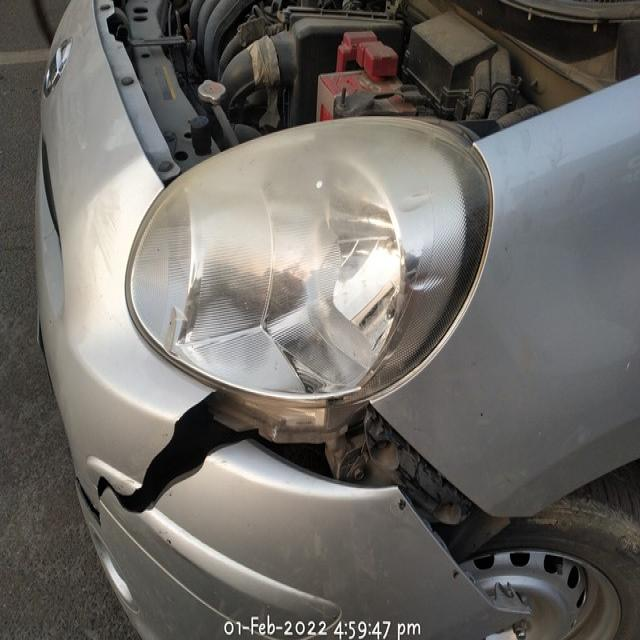damage: (68, 370, 530, 615)
